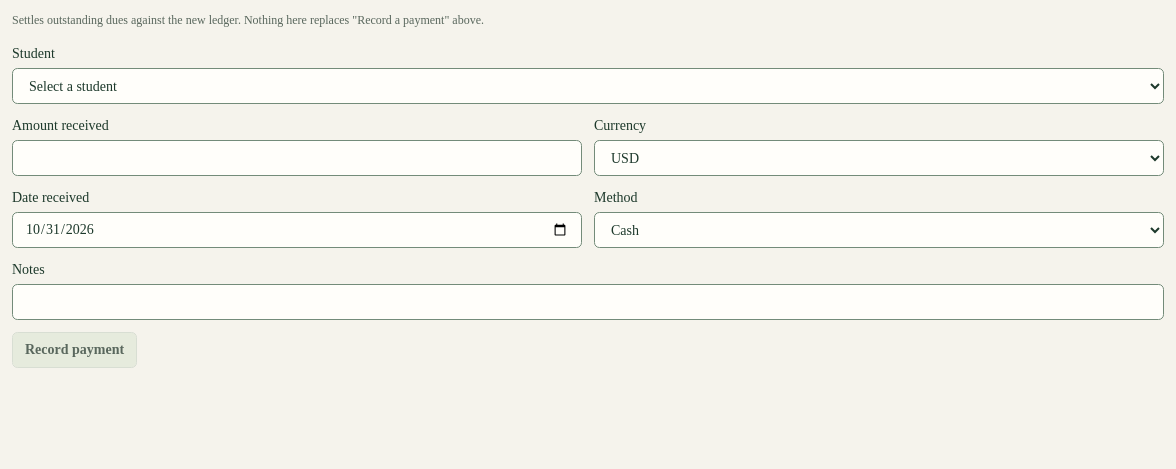
Test: point 2: an ordinary business refusal clears only the identity, never the owner's typed draft › alreadySettled refuses, clears identity, and shows the detail without discarding an unrelated still-valid selection
Select "Ana Soto — Alliance" in the dropdown labelled "Student" at point(588, 86), box [12, 68, 1164, 104]
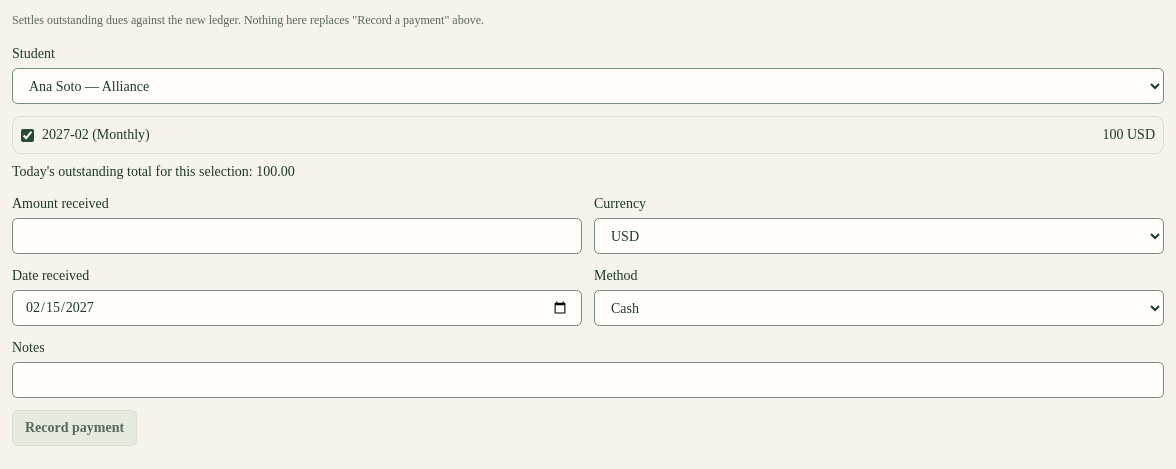
Type "100.00" into the field labelled "Amount received" at point(297, 236), box [12, 218, 582, 254]
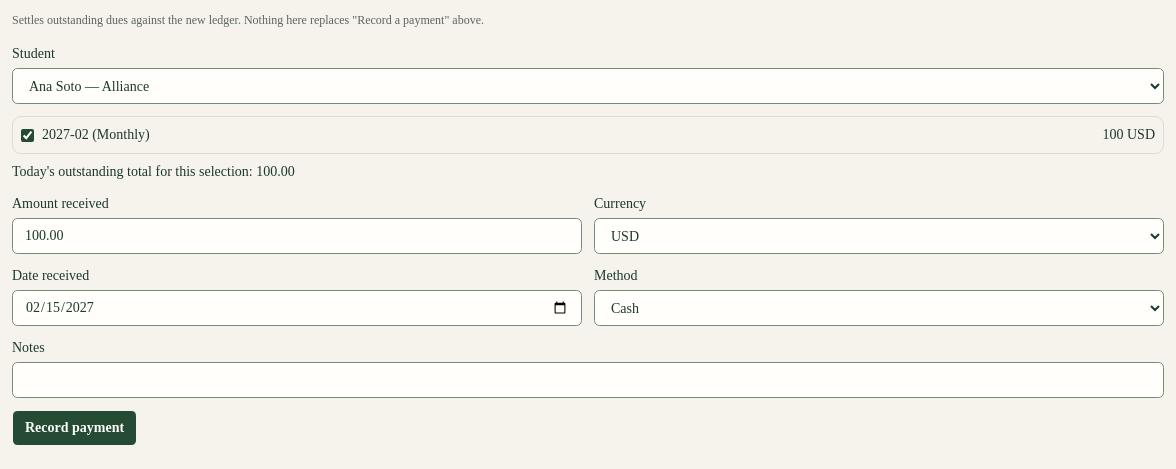
Click the button "Record payment" at point(75, 428), box [12, 410, 137, 446]
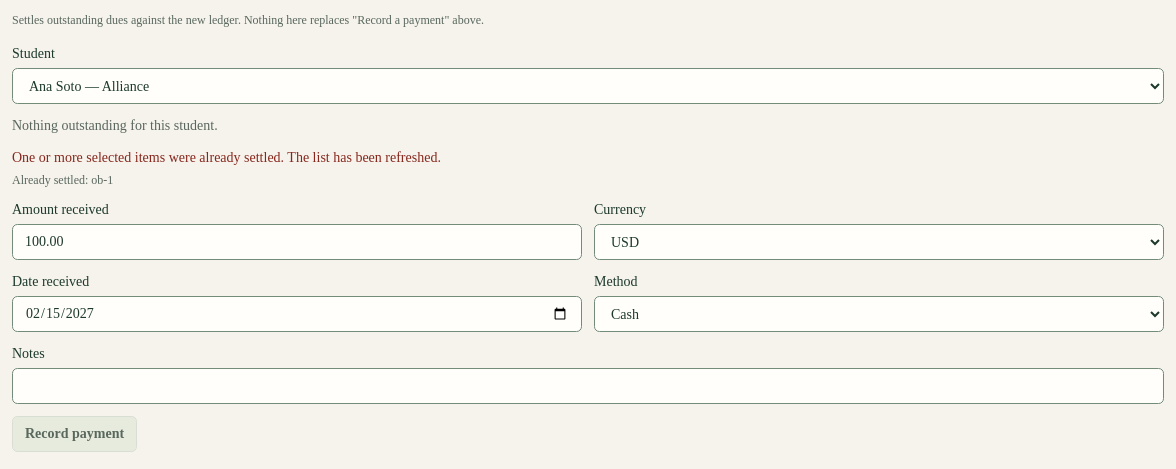
Expected: the text "Already settled: ob-1" is shown, [12, 173, 113, 187]
Expected: the text "One or more selected items were already settled. The list has been refreshed." is shown, [12, 150, 441, 165]
